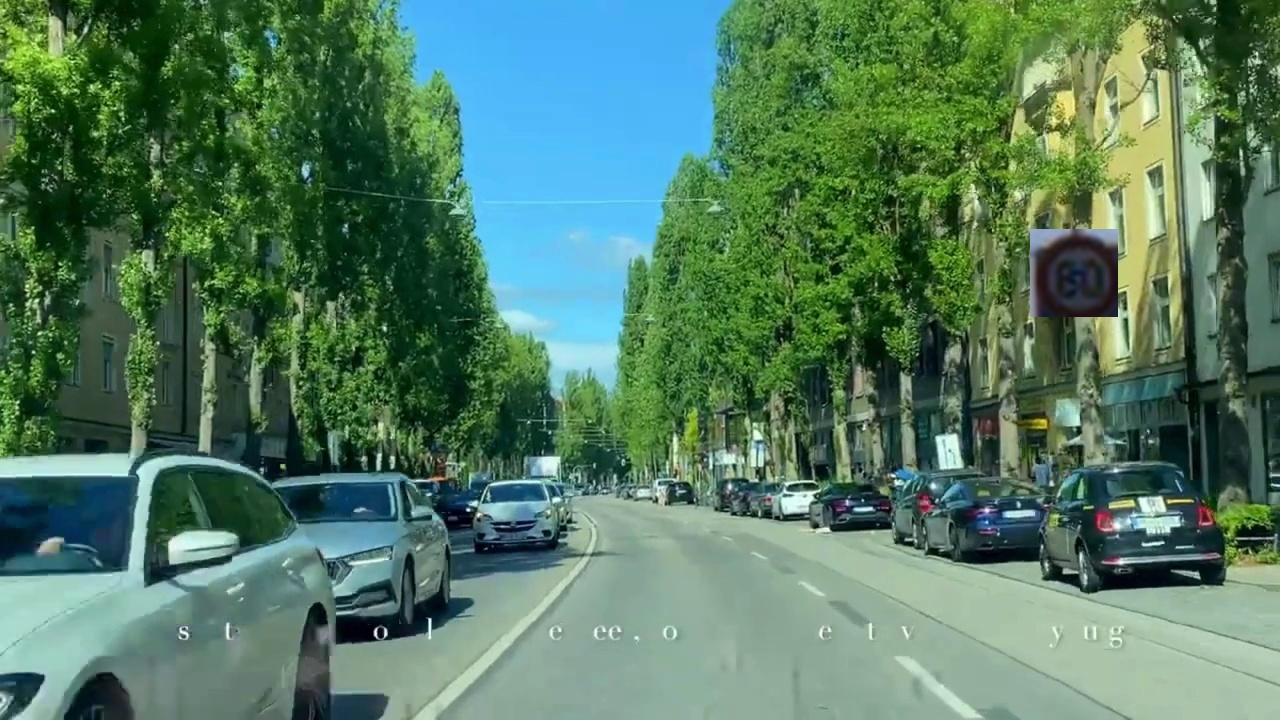Speed 80: (1030, 229, 1118, 317)
